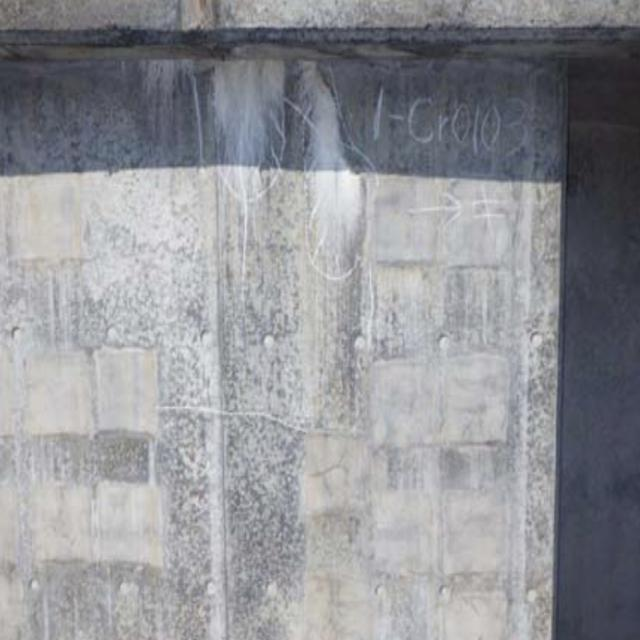freelime: (199, 57, 390, 272)
